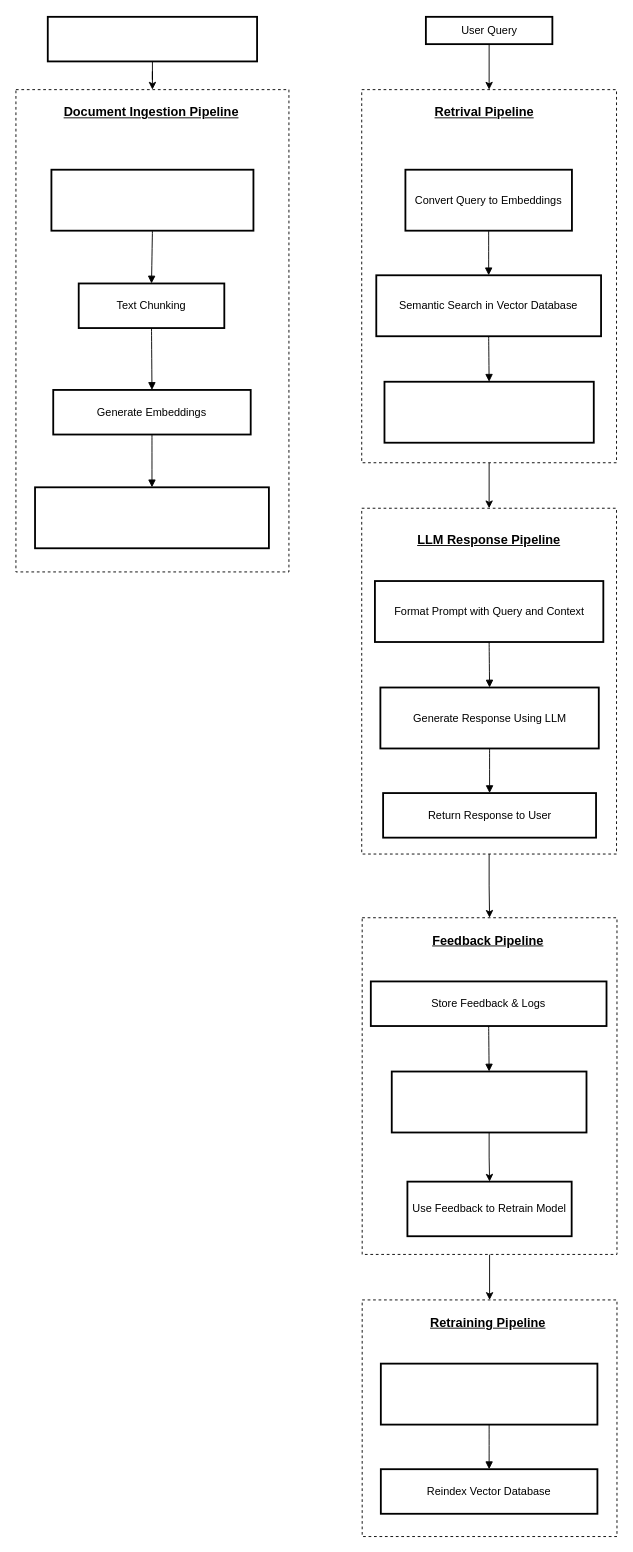
The diagram is 633 pixels wide and 1552 high, and some of its shapes have lost their labels. Each missing label, with the centre of its shape:
"Analyze Feedback for Common Issues" goes at (x=488, y=1101).
"Fine-Tune LLM or Update Embeddings" goes at (x=488, y=1393).
"Retrieve Top-k Relevant Chunks" goes at (x=488, y=411).
"Store Embeddings in Vector Database" goes at (x=151, y=517).
"Text Extraction & Preprocessing" goes at (x=152, y=199).
"User Uploads Document" goes at (x=152, y=38).
